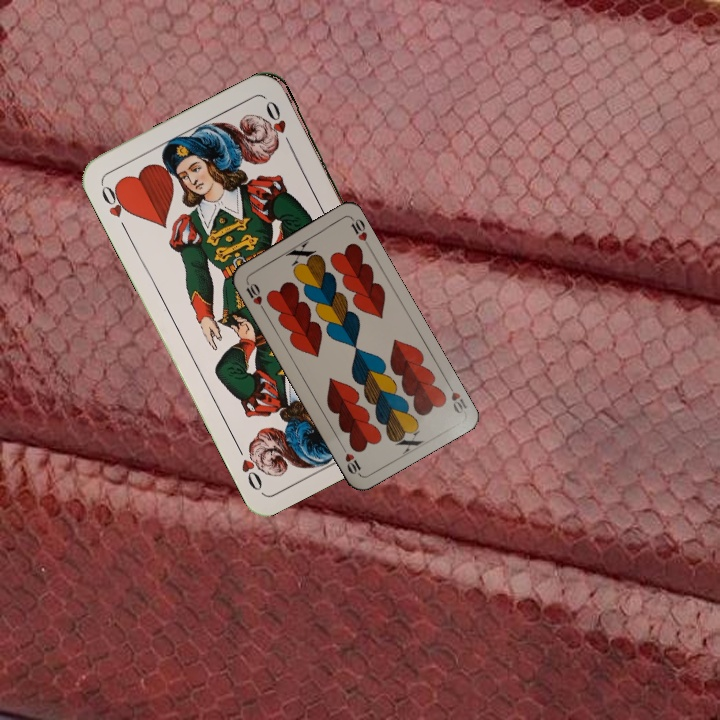H10: (443, 378, 470, 416), (242, 276, 267, 313)
HO: (97, 180, 134, 235)
